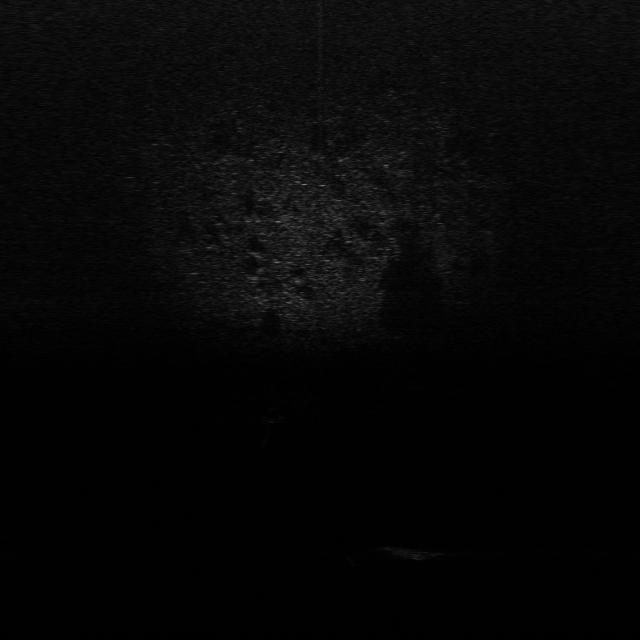ball: (256, 404, 290, 426)
metal bucket: (359, 541, 472, 565)
